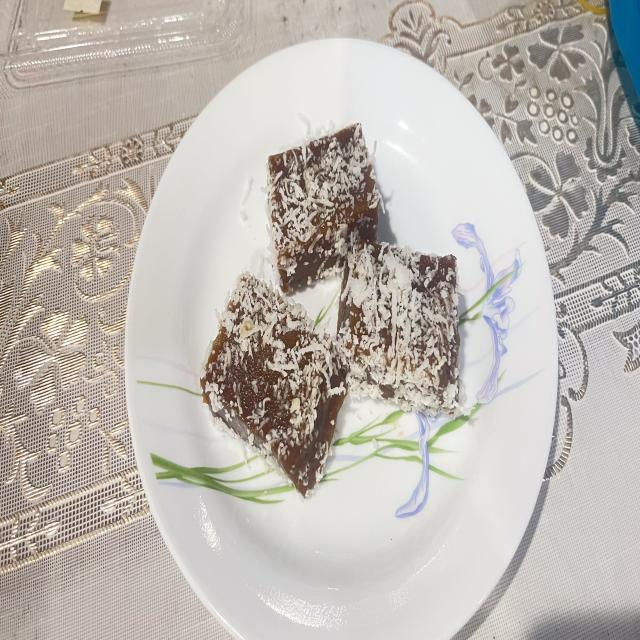kaswi: (201, 273, 348, 496), (338, 240, 460, 416), (268, 124, 381, 293)
